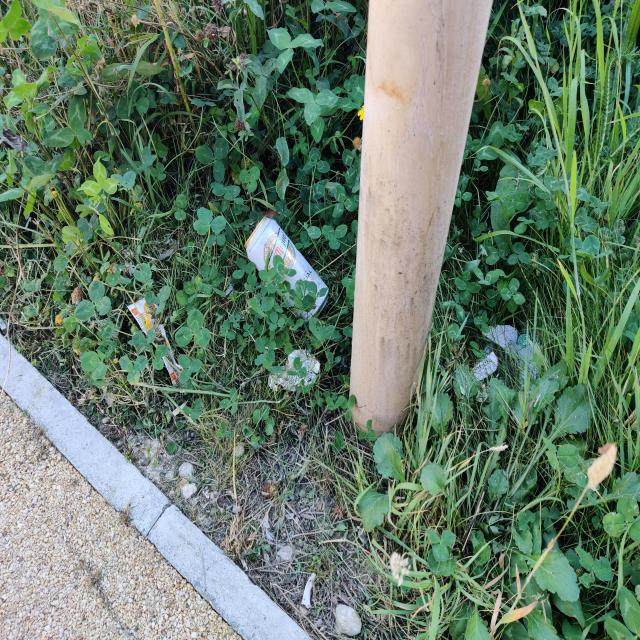litter: (249, 223, 322, 317), (124, 297, 184, 386)
